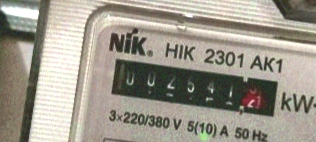0: (122, 65, 138, 88), (143, 66, 158, 89)
1: (223, 76, 238, 101)
2: (163, 68, 180, 92)
4: (204, 73, 218, 96)
5: (183, 71, 199, 96)
6: (244, 95, 257, 109)
screen: (97, 46, 292, 127)
